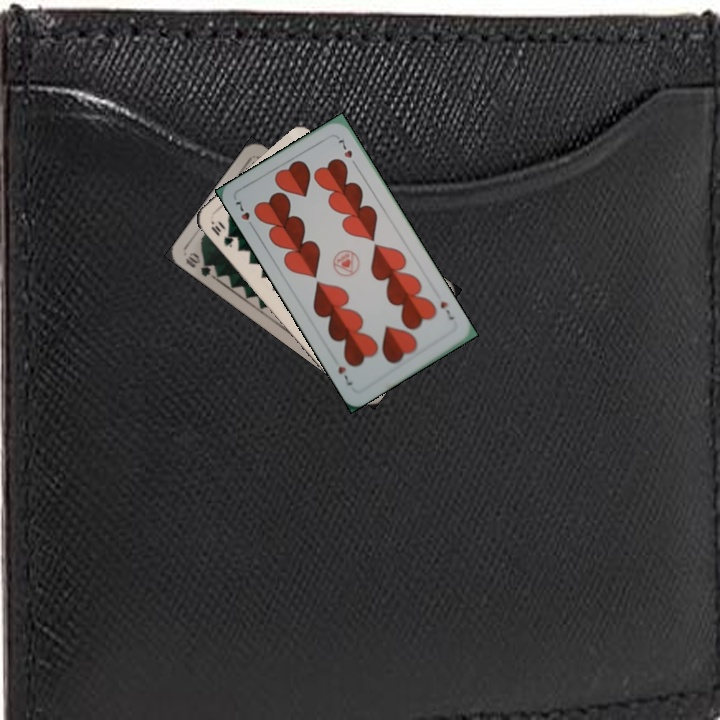G10: (181, 248, 220, 281), (207, 217, 236, 250)
H7: (231, 197, 257, 232), (436, 297, 457, 322)
